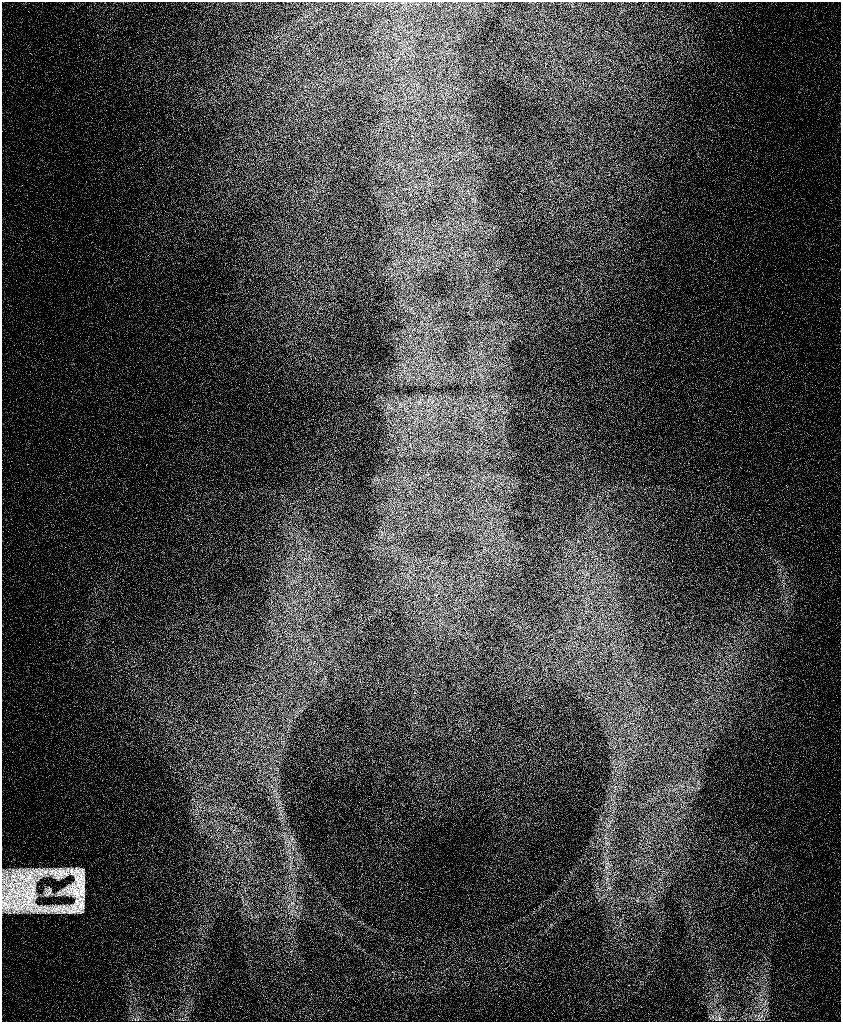lumbar scoliosis: (353, 108, 544, 600)
